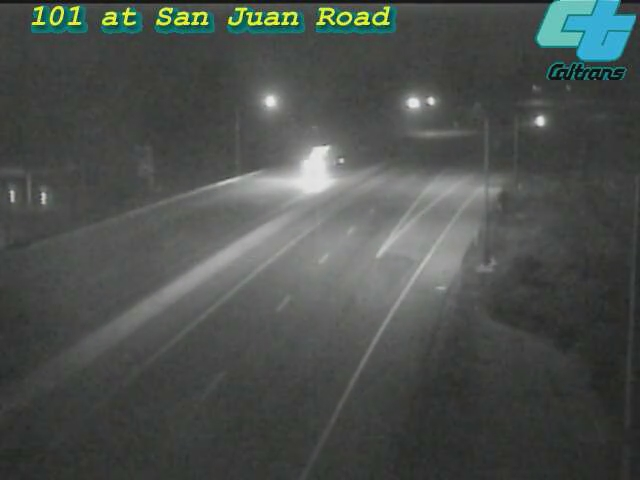vehicle: (281, 123, 361, 203), (514, 96, 564, 146)
